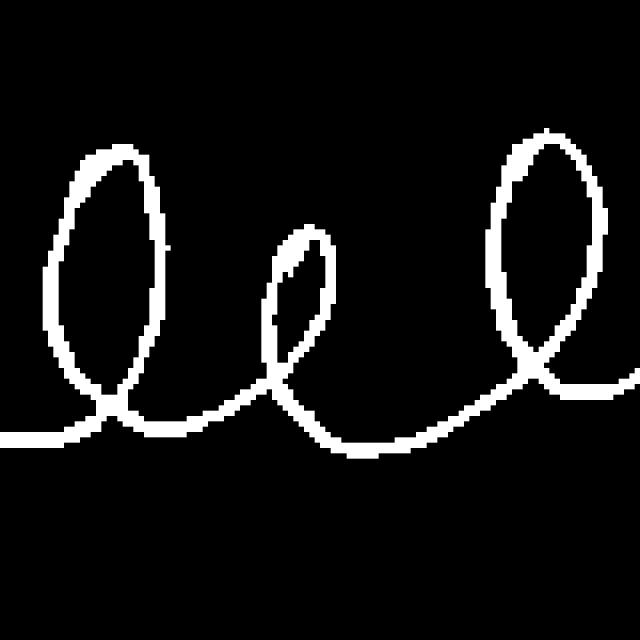inductor: (33, 118, 616, 463)
